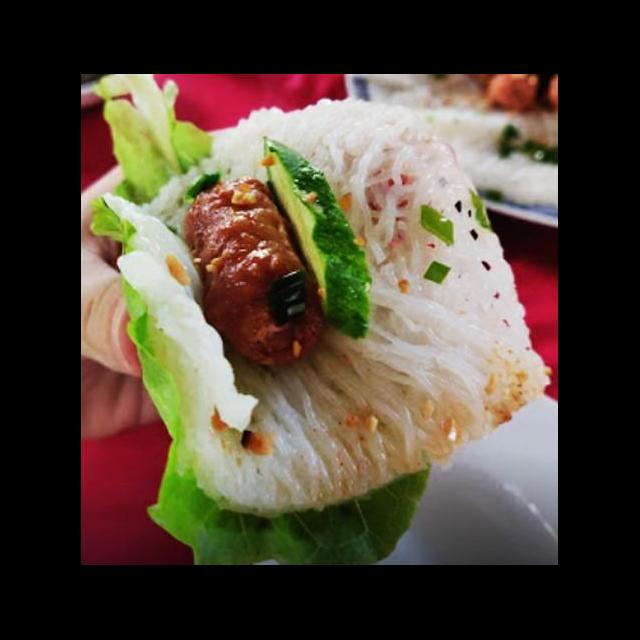banh hoi: (100, 93, 556, 520)
